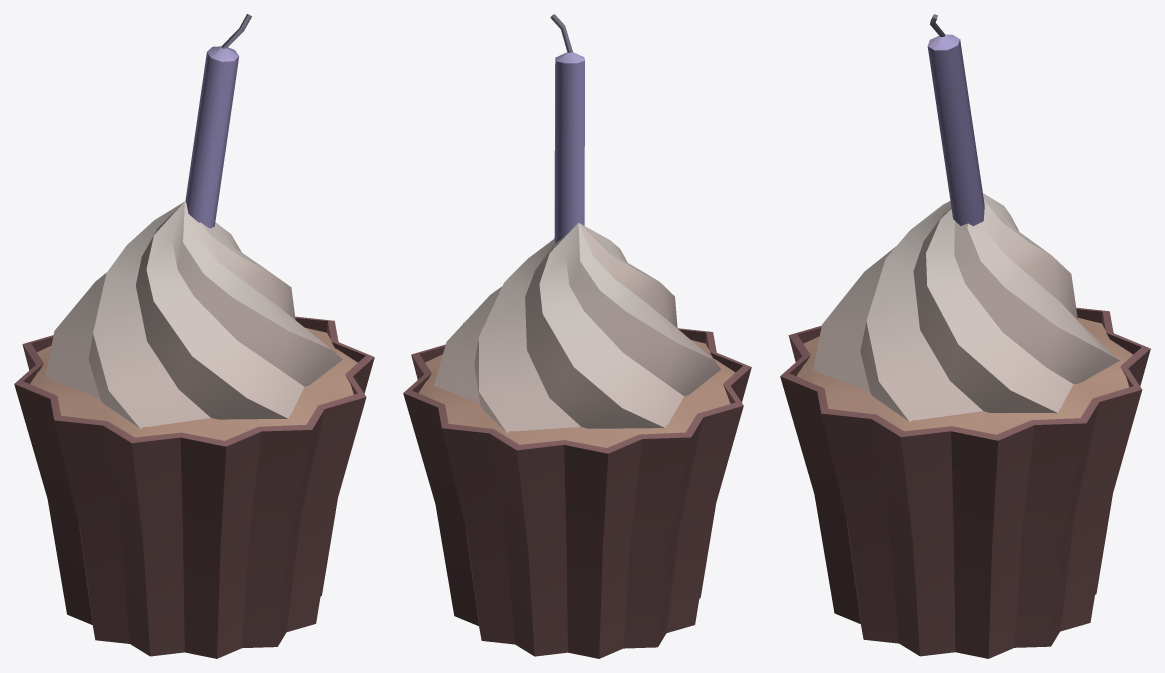
3 renders of one model, left to right at view 1: azimuth 30°, elevation 25°; view 2: azimuth 150°, elevation 25°; view 3: azimuth 270°, elevation 25°, orthographic. The views are drawn at different scales.
Parts seen in each view (by area): view 1: cupcake_brown; view 2: cupcake_brown; view 3: cupcake_brown.
Boxes of the visible parts, bbox=[...] form: cupcake_brown: bbox=[14, 14, 374, 658]; cupcake_brown: bbox=[403, 14, 751, 658]; cupcake_brown: bbox=[780, 14, 1150, 658].
Size of the model in its own units: 0.084 by 0.1522 by 0.084.
